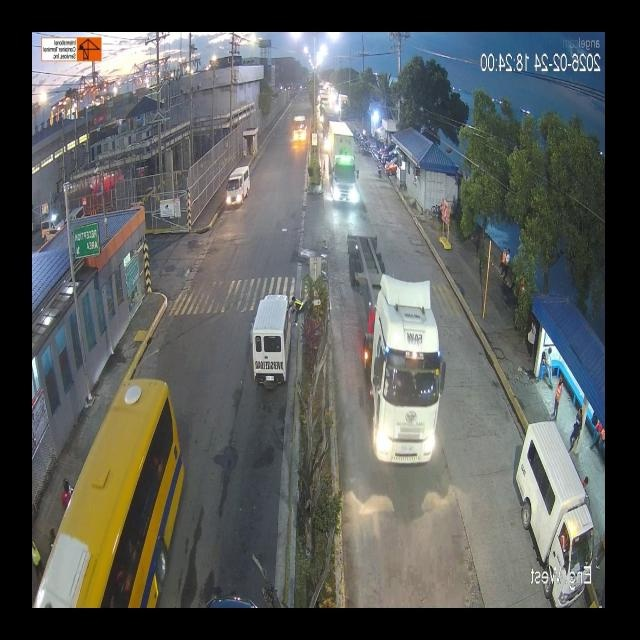bus: (34, 371, 189, 605)
car: (512, 423, 602, 563), (250, 292, 286, 400), (226, 163, 252, 210)
truck: (199, 236, 329, 481), (324, 108, 355, 216), (291, 109, 349, 146), (338, 91, 351, 127)
